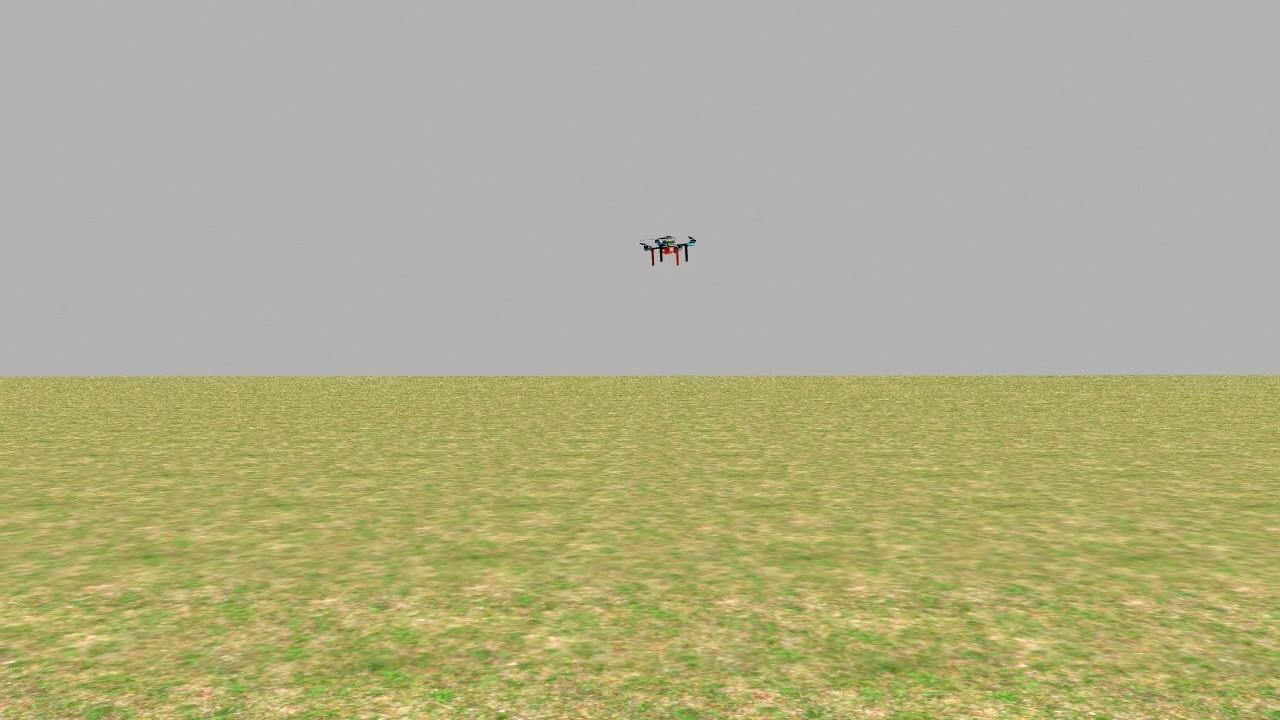UAV: (633, 221, 698, 269)
